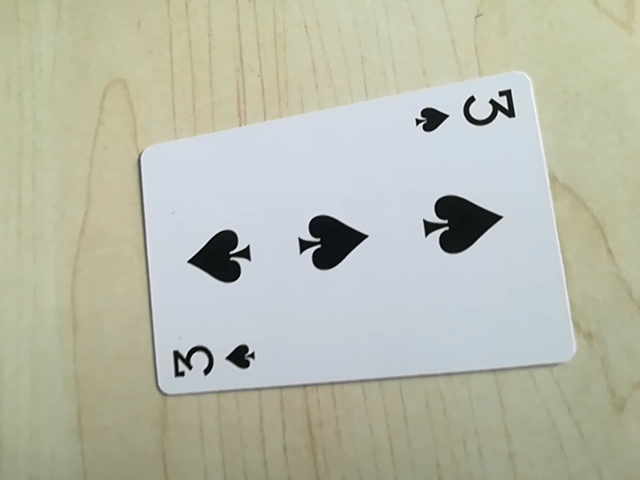ht 3: (410, 86, 519, 138), (164, 335, 260, 387)
